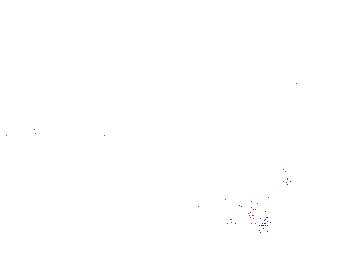flame jellyfish: (227, 187, 317, 248), (30, 74, 77, 138)
